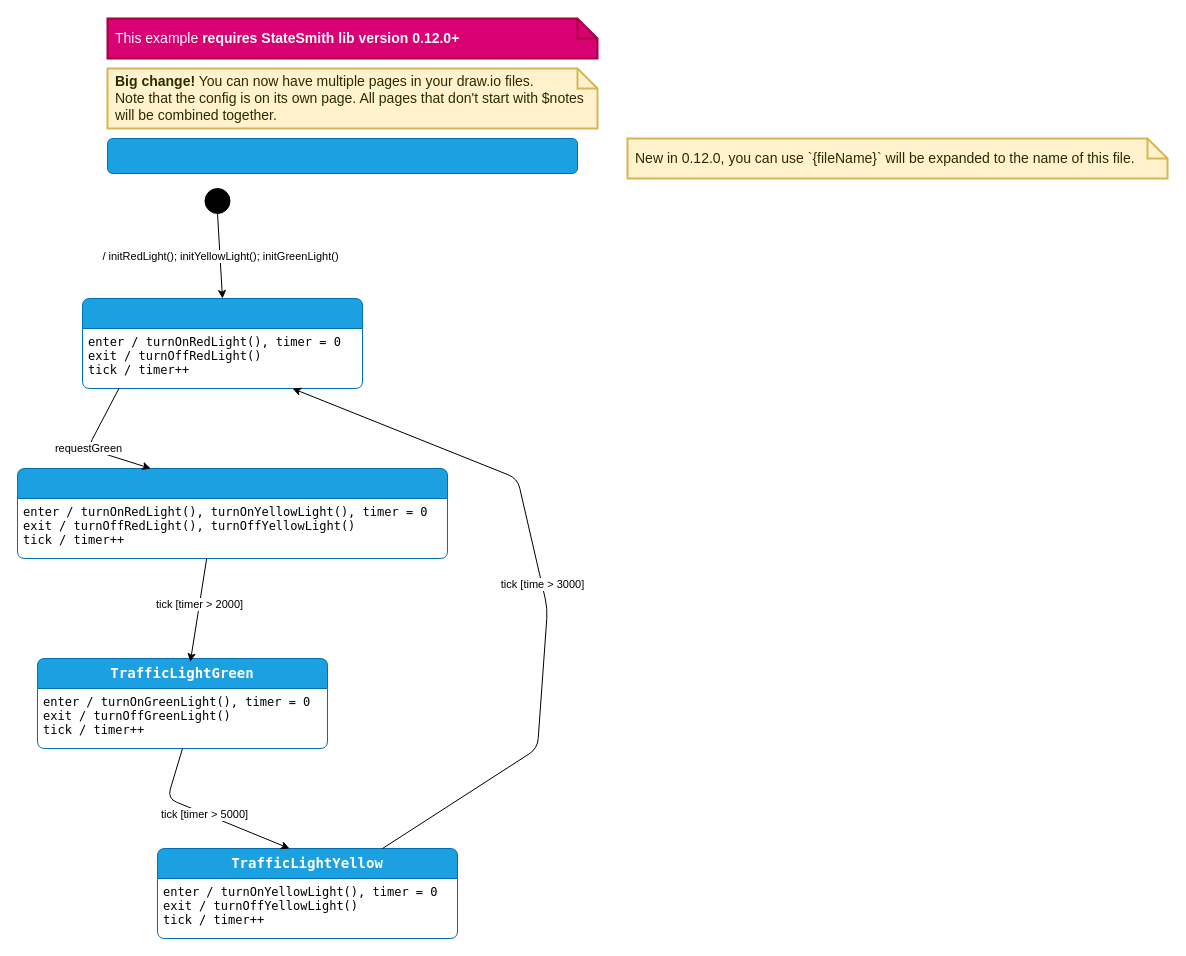
Image size: 1186x956. Some labels were removed from this diagram. Each missing label, with the box of its shape:
$STATEMACHINE : MyTraffic: (106, 138, 578, 174)
TrafficLightStateRed: (82, 298, 362, 388)
TrafficLightStateRedYellow: (16, 468, 448, 558)
